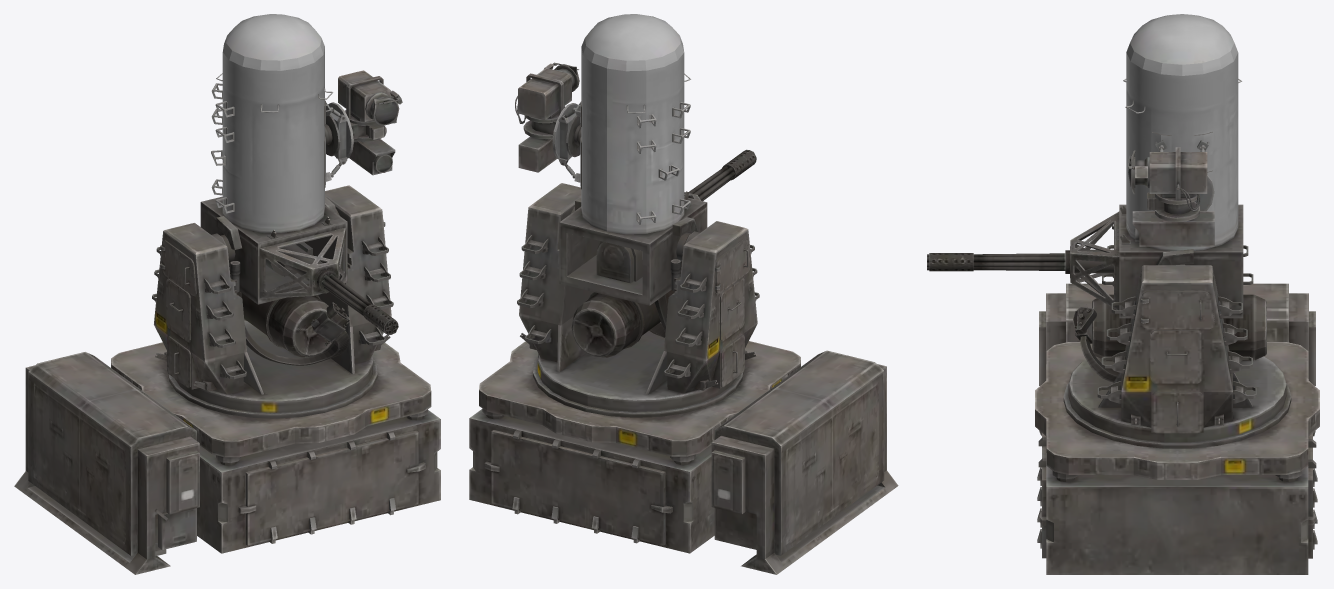
3 views of the same model, side by side, from view 1: azimuth 30°, elevation 25°; view 2: azimuth 150°, elevation 25°; view 3: azimuth 270°, elevation 25° (orthographic). The views are drawn at different scales.
Visible parts, largest first — view 1: Object_4, Object_3, Object_2, Object_5; view 2: Object_4, Object_3, Object_2, Object_5; view 3: Object_4, Object_3, Object_2, Object_5.
Boxes of the visible parts, x1,y1,x2,y2 form: Object_4: (14,185,440,574); Object_3: (211,14,398,357); Object_2: (156,70,402,365); Object_5: (89,220,393,438); Object_4: (469,183,898,574); Object_3: (552,14,756,357); Object_2: (515,62,707,337); Object_5: (517,234,874,400); Object_4: (1035,224,1319,574); Object_3: (927,14,1266,360); Object_2: (1070,147,1248,382); Object_5: (1066,226,1286,432).
Bounding box in the file's own units: 178 × 246 × 176.
1 material, 1 textured.
